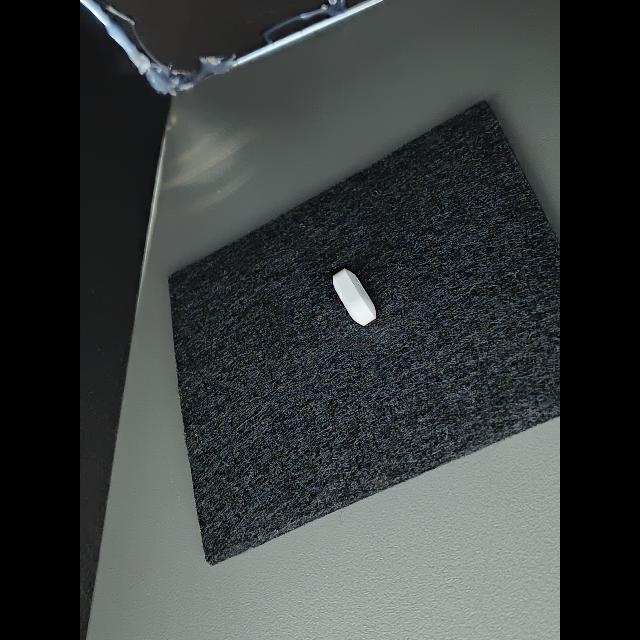Intact Pill: (333, 269, 376, 326)
